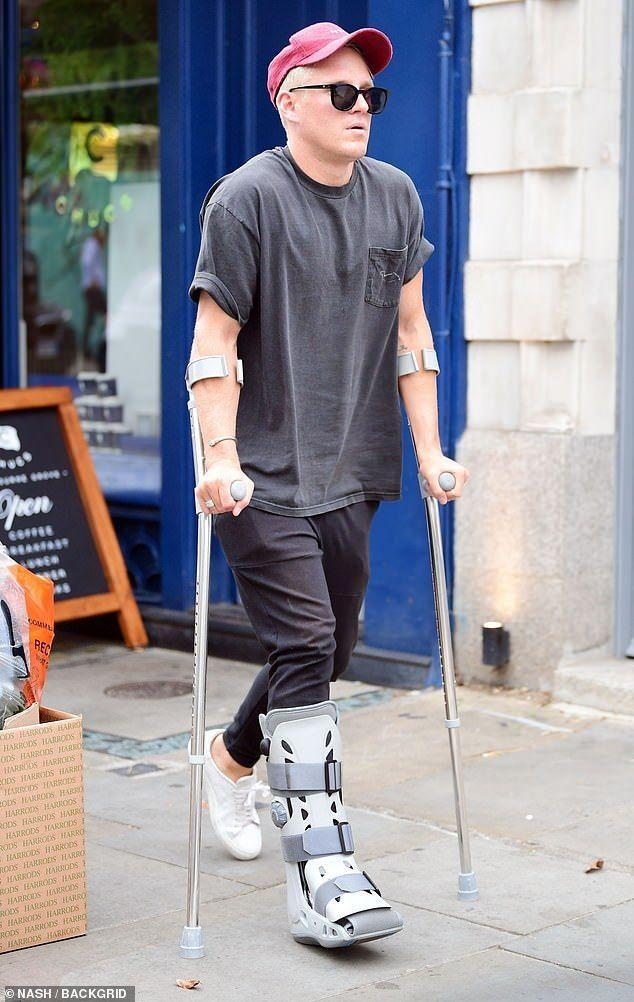crutches: (173, 13, 489, 987)
